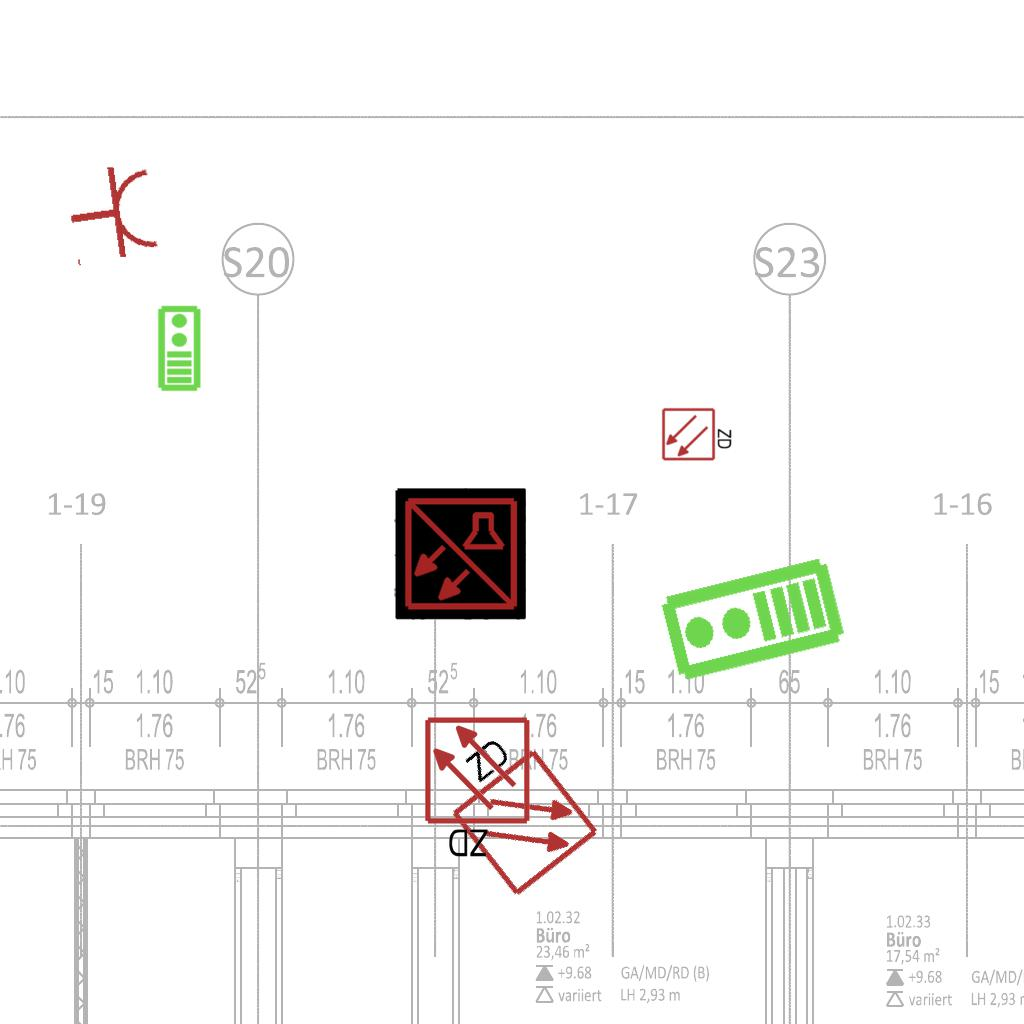Gegensprechanlage_mit_Video: (655, 553, 850, 689), (155, 304, 202, 392)
OKW_Multisensormelder_(Kombination_optischer_Rauch-Kahlenmonoxid_Waerme-Melder): (394, 488, 526, 620)
Schukosteckdose_einfach: (62, 159, 163, 271)
ZD_Melder_in_Zwischendecke_mit_Revisionsoeffnung_mind_40_x_40_cm: (421, 714, 603, 903), (422, 715, 536, 864), (661, 405, 735, 462)
